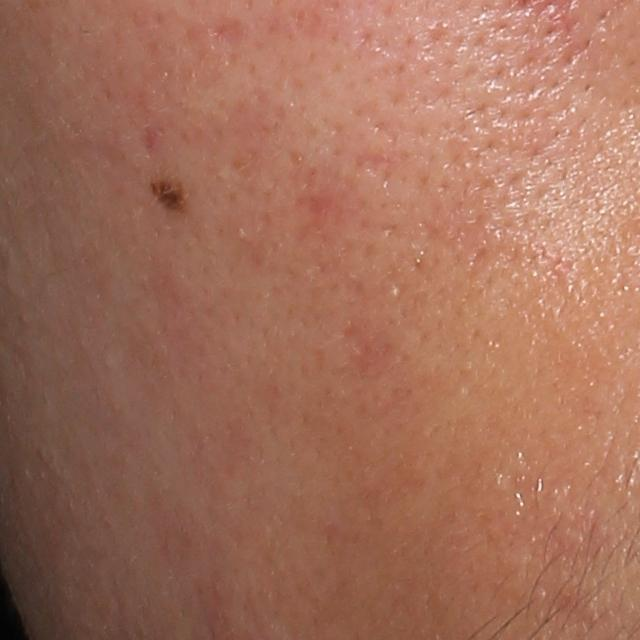atrophic_scar: (206, 12, 246, 55), (351, 147, 400, 181)
nevus: (145, 172, 192, 217)
